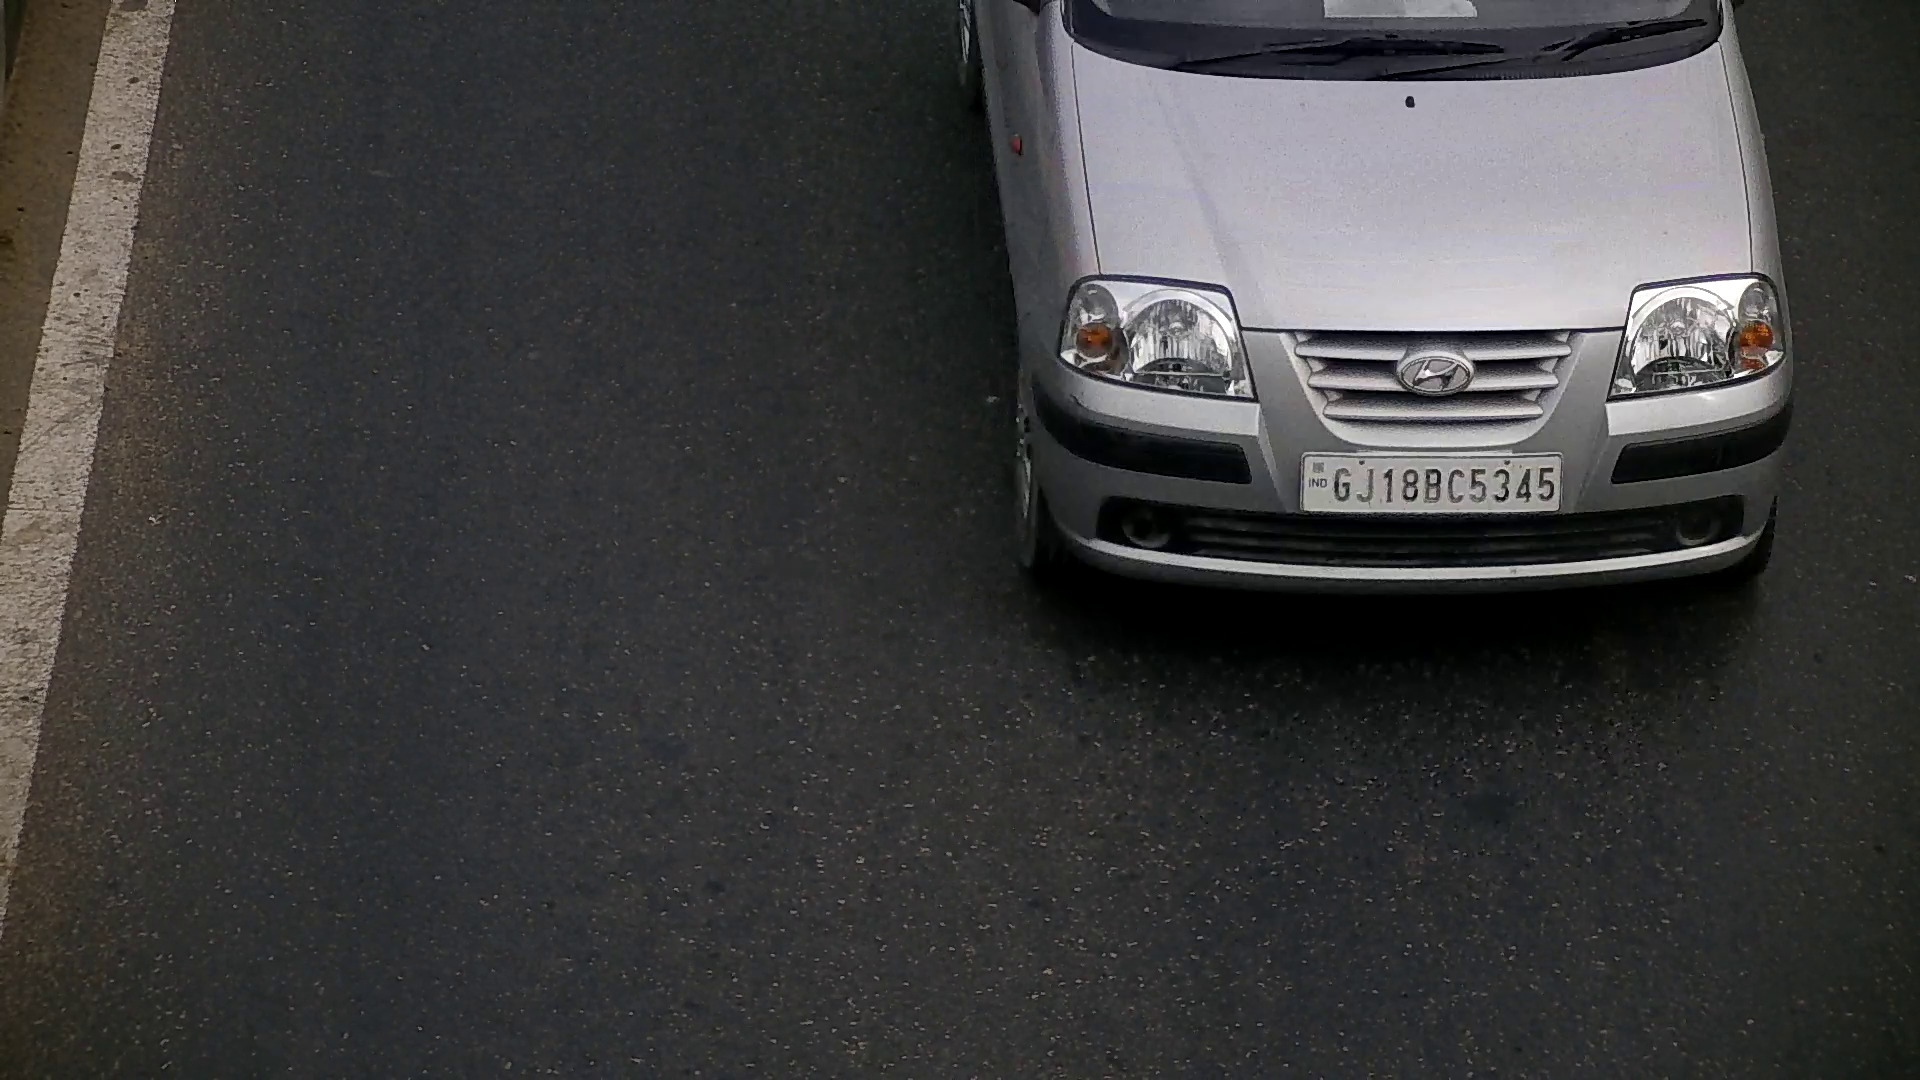numberplate: (1297, 445, 1565, 521)
